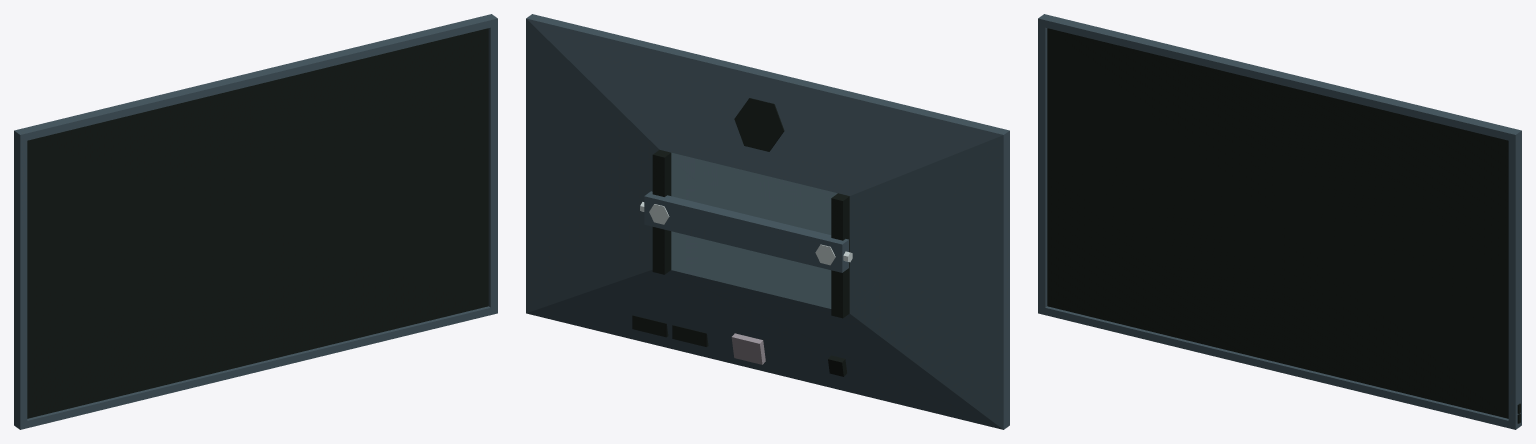
File: FlatTv-transformed.glb
The picture shows the model from 3 angles, left to right: view 1: azimuth 30°, elevation 25°; view 2: azimuth 150°, elevation 25°; view 3: azimuth 330°, elevation 25°; orthographic projection.
Visible parts, largest first — view 1: group1257628551; view 2: group1257628551; view 3: group1257628551.
Boxes of the visible parts, x1,y1,x2,y2 form: group1257628551: [14, 14, 497, 429]; group1257628551: [526, 14, 1009, 429]; group1257628551: [1038, 14, 1521, 429].
Bounding box in the file's own units: 4.06 × 2.39 × 0.4064.
Materials: 1 (1 with a texture image).
